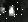person: (10, 7, 16, 17), (1, 6, 7, 16)
